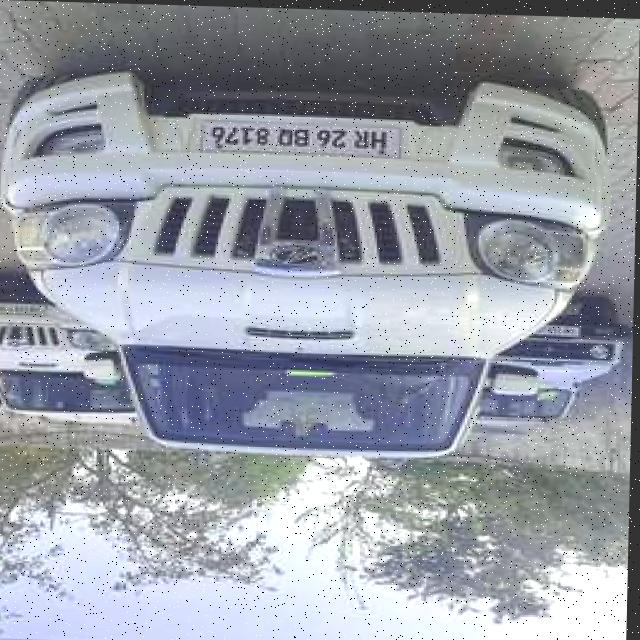plate: (197, 117, 403, 160)
